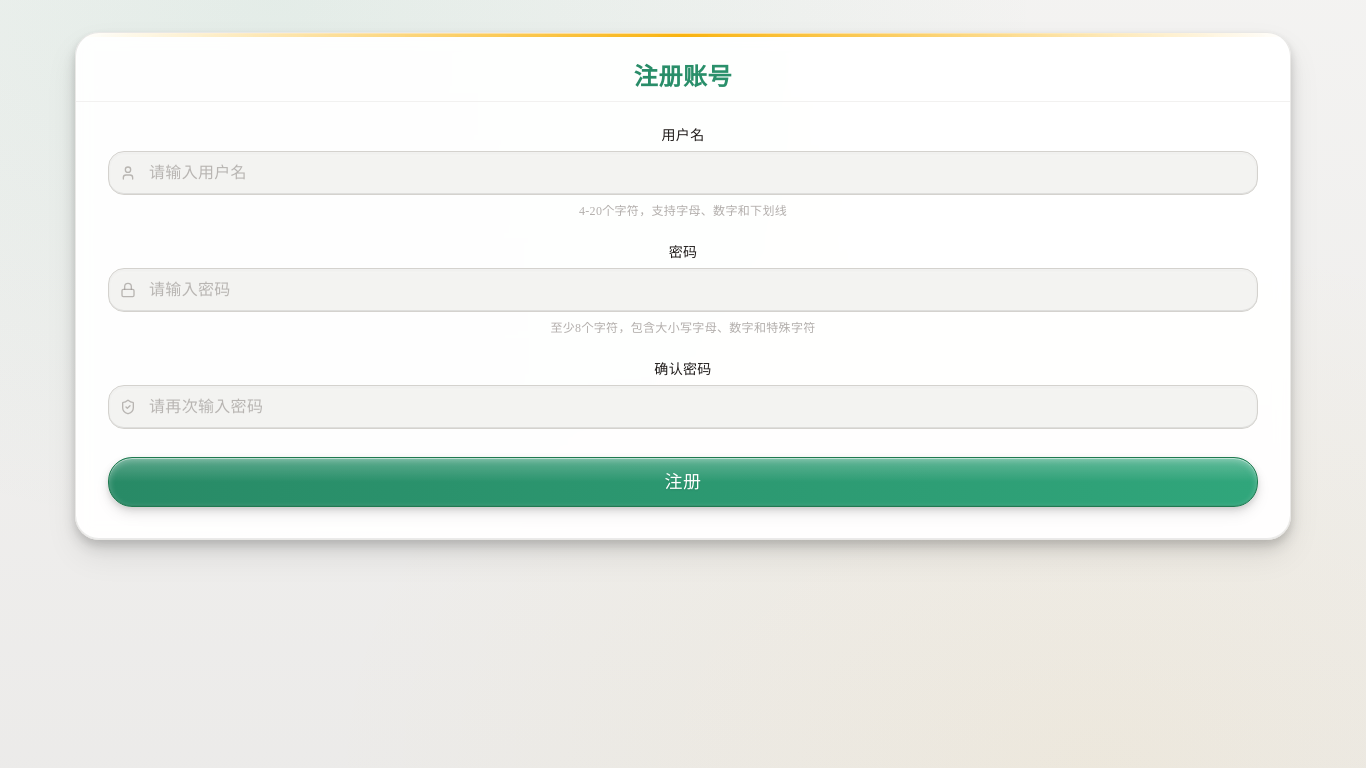
Test: RegisterForm › clears field errors when user starts typing
The image size is (1366, 768).
Trigger validation error
Click the button "注册" at point(683, 482), box [108,457,1258,507]
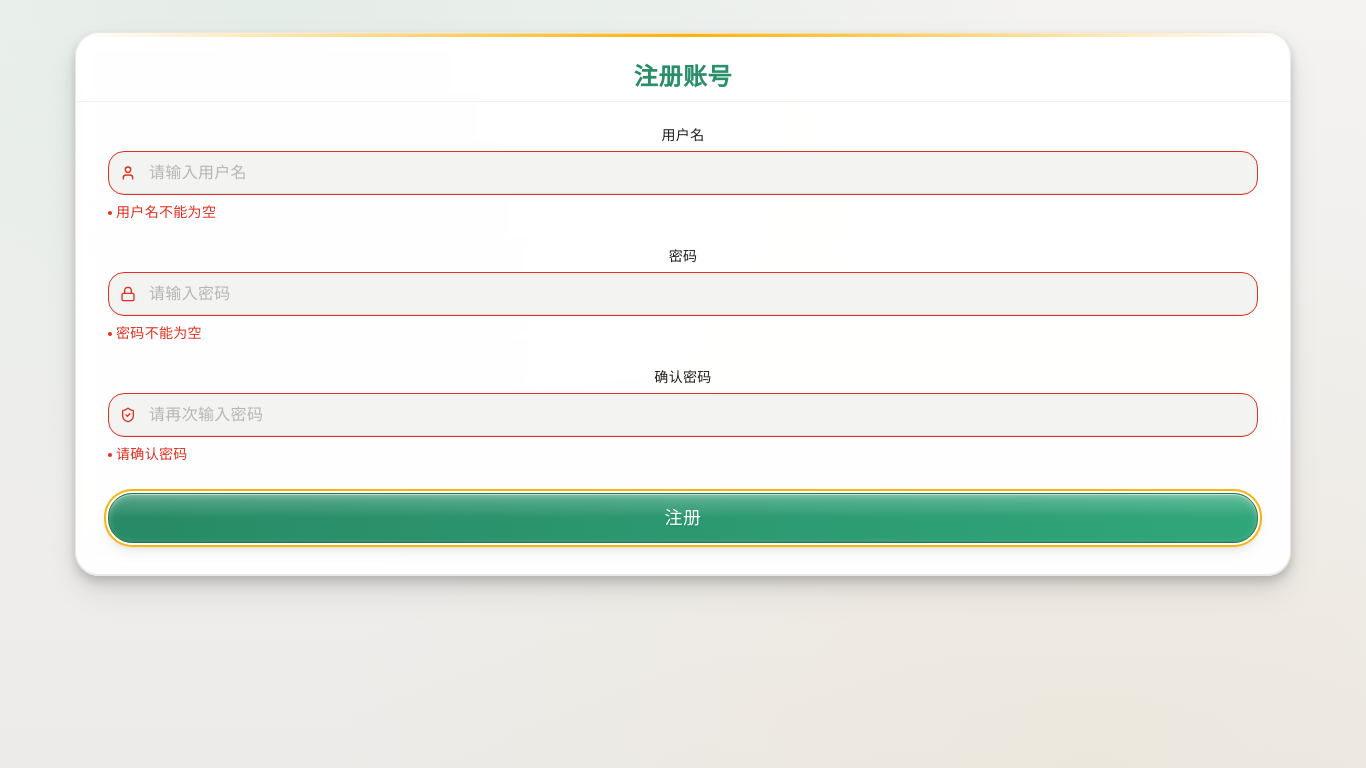
Check: the text "用户名不能为空" is shown, box [108,205,216,220]
Start typing to clear error
Type "test" into the field labelled "用户名" at point(683, 173), box [108,151,1258,195]
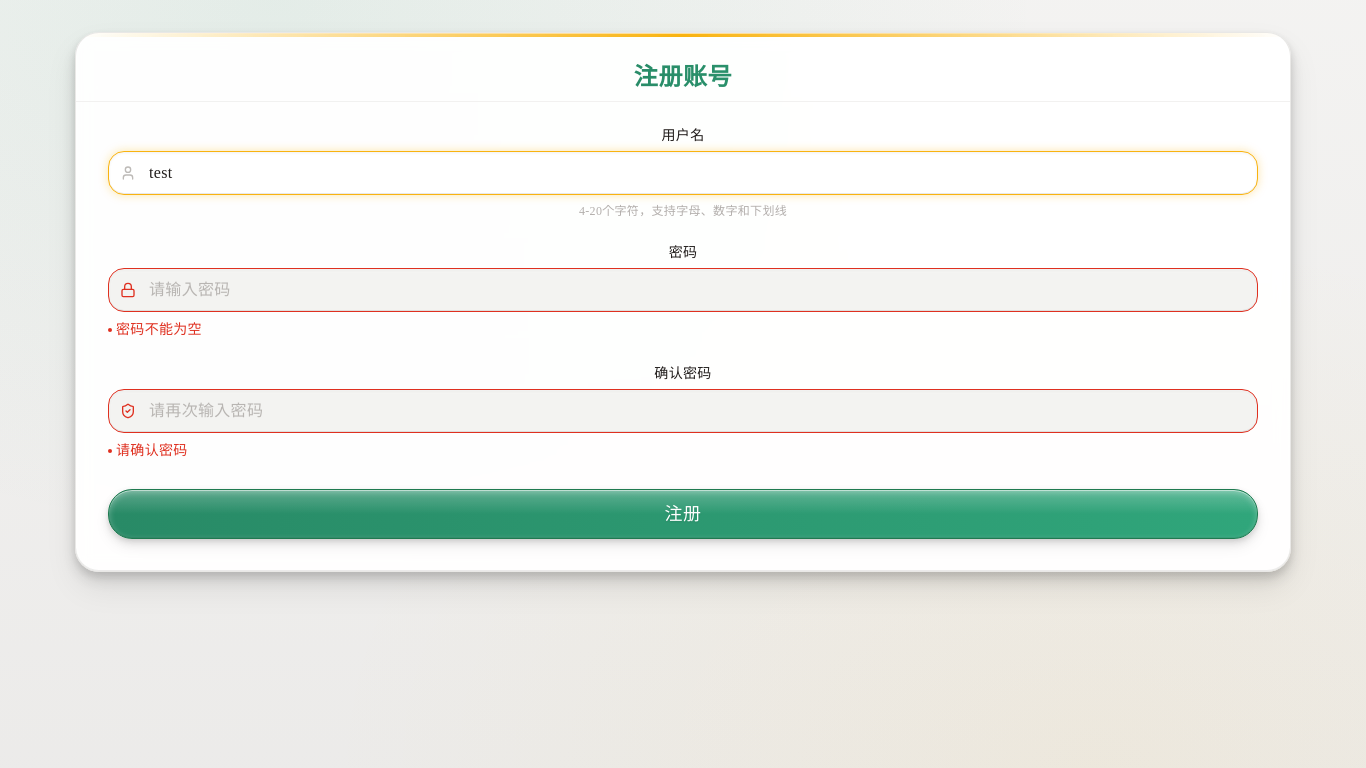
Check: the text "用户名不能为空" is gone
